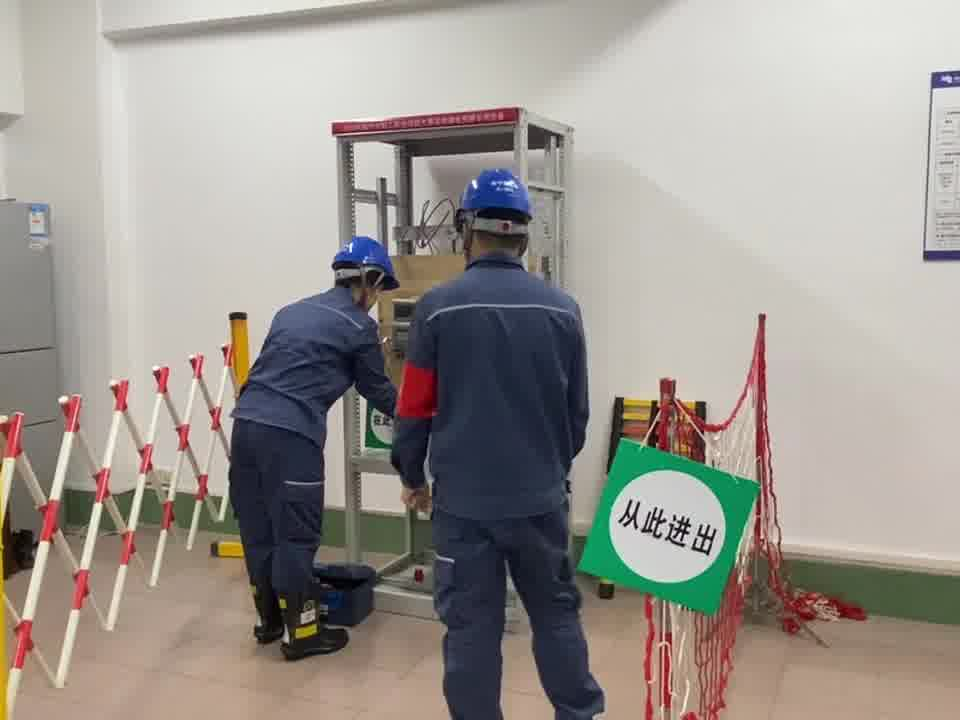badge: (397, 361, 439, 422)
downsuit: (426, 514, 598, 711), (223, 429, 325, 611)
halt: (455, 167, 537, 258), (330, 235, 396, 300)
hand: (397, 481, 431, 512)
inear: (355, 264, 382, 305)
intosign: (583, 441, 758, 614)
person: (404, 162, 613, 720), (224, 233, 395, 668)
shoe: (248, 581, 352, 664)
upsuit: (394, 265, 594, 520), (236, 287, 388, 421)
worksign: (363, 394, 394, 449)
